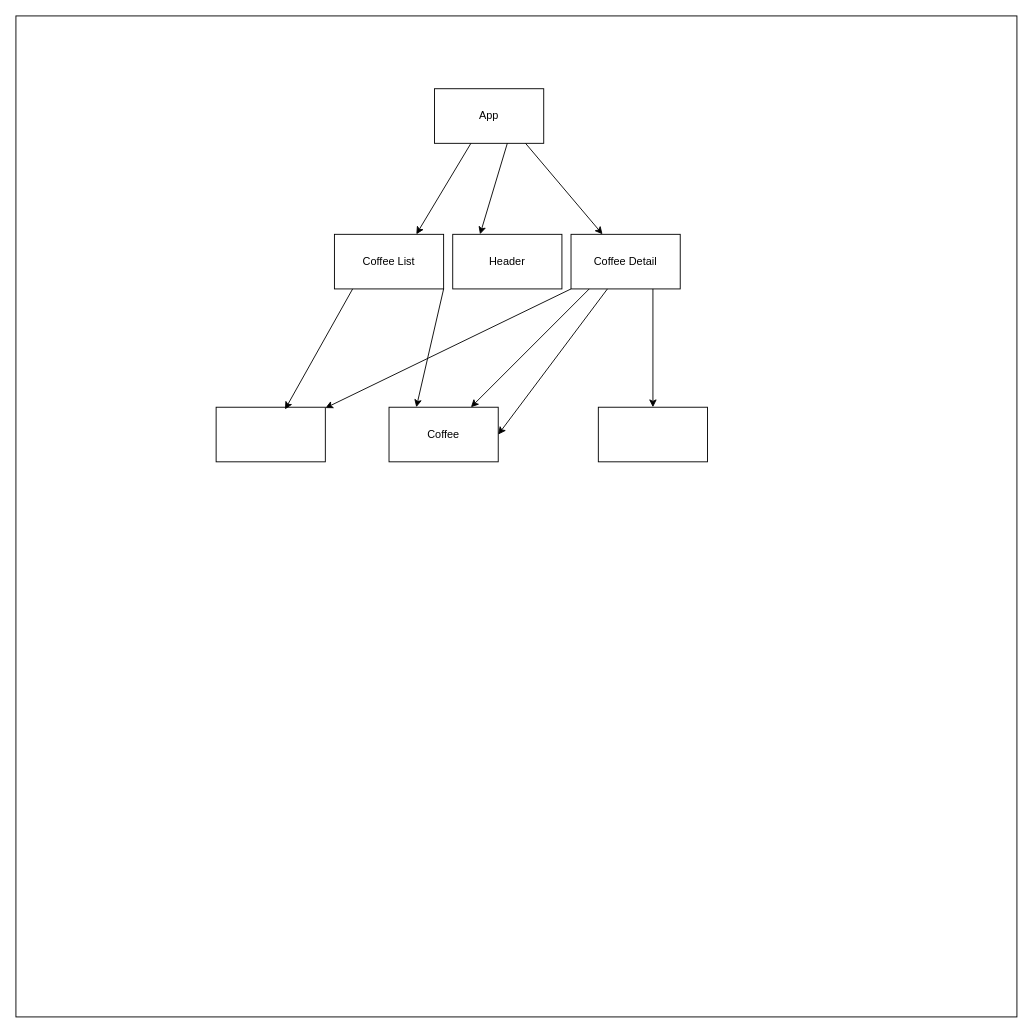
This 1033x1033 diagram has some shape labels left out. The centre of each missing label's shape, as x and y in pixels:
"Coffee Control" belongs at point (652, 434).
"New Coffee Form" belongs at point (270, 434).
